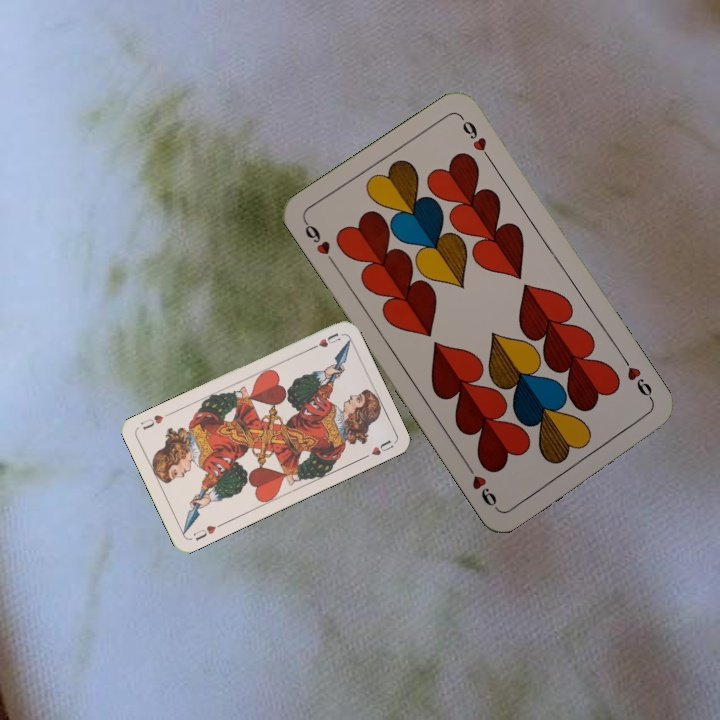H9: (300, 217, 339, 269), (619, 353, 657, 406)
HU: (306, 328, 343, 353), (189, 519, 225, 543)
